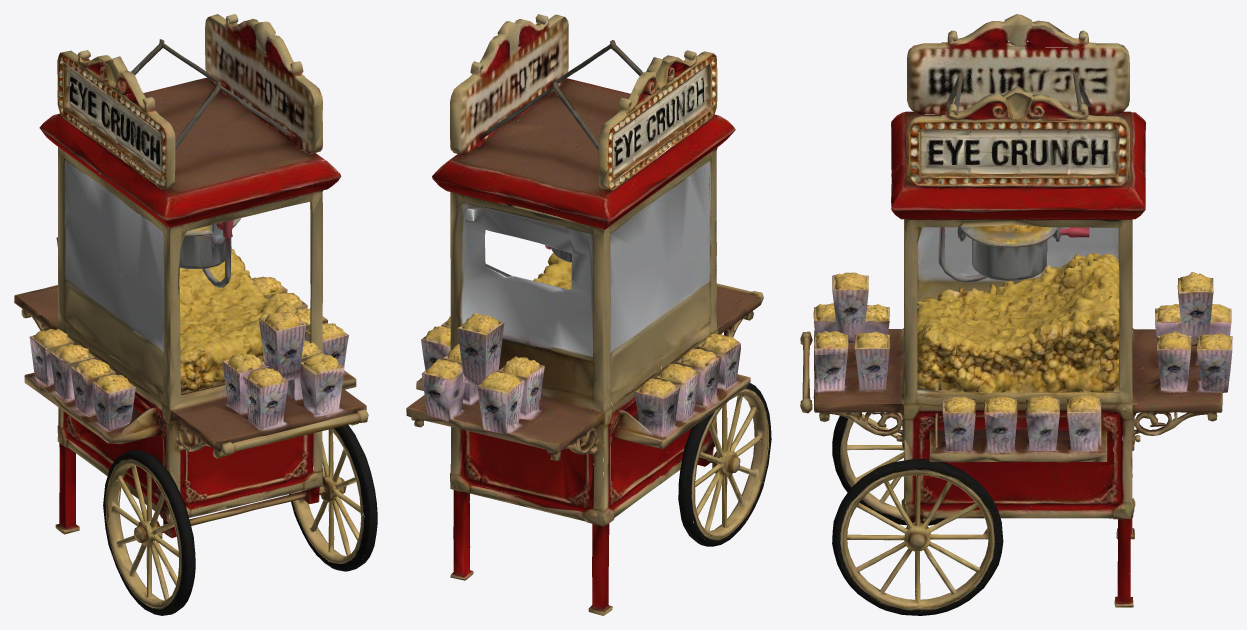
File: popcorn.glb
The picture shows the model from 3 angles, left to right: view 1: azimuth 30°, elevation 25°; view 2: azimuth 150°, elevation 25°; view 3: azimuth 270°, elevation 25°; orthographic projection.
Visible parts, largest first — view 1: tripo_node_c24d3418-170d-4563-8dcb-c25e03550a39; view 2: tripo_node_c24d3418-170d-4563-8dcb-c25e03550a39; view 3: tripo_node_c24d3418-170d-4563-8dcb-c25e03550a39.
Boxes of the visible parts, x1,y1,x2,y2 form: tripo_node_c24d3418-170d-4563-8dcb-c25e03550a39: (14,14,377,615); tripo_node_c24d3418-170d-4563-8dcb-c25e03550a39: (406,14,771,615); tripo_node_c24d3418-170d-4563-8dcb-c25e03550a39: (800,14,1232,615).
Bounding box in the file's own units: 0.5015 × 0.9997 × 0.7546.
Materials: 1 (1 with a texture image).
